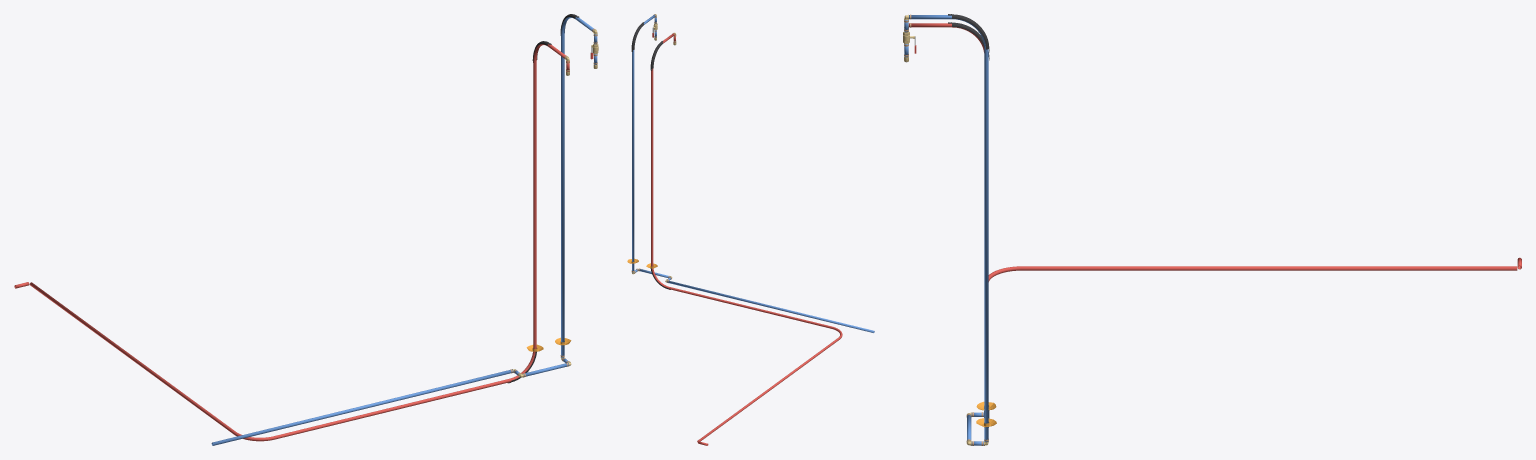
Rendered from pipes_supply__water_heater-closet_gas_tank+closet_electric_tank_and_plumbing-pex__r4y.glb.
3 views of the same model, side by side, from view 1: azimuth 30°, elevation 25°; view 2: azimuth 150°, elevation 25°; view 3: azimuth 270°, elevation 25° (orthographic). The views are drawn at different scales.
Visible parts, largest first — view 1: pipe_supply_hot_wh_closet__pex, pipe_supply_cold_wh_closet__pex; view 2: pipe_supply_hot_wh_closet__pex, pipe_supply_cold_wh_closet__pex; view 3: pipe_supply_hot_wh_closet__pex, pipe_supply_cold_wh_closet__pex.
Boxes of the visible parts, bbox=[...] form: pipe_supply_hot_wh_closet__pex: bbox=[14, 44, 569, 441]; pipe_supply_cold_wh_closet__pex: bbox=[211, 17, 597, 445]; pipe_supply_hot_wh_closet__pex: bbox=[651, 33, 842, 445]; pipe_supply_cold_wh_closet__pex: bbox=[632, 14, 874, 332]; pipe_supply_hot_wh_closet__pex: bbox=[909, 23, 1521, 281]; pipe_supply_cold_wh_closet__pex: bbox=[904, 15, 988, 445].
Bounding box in the file's own units: 2.58 × 2.51 × 3.18.
